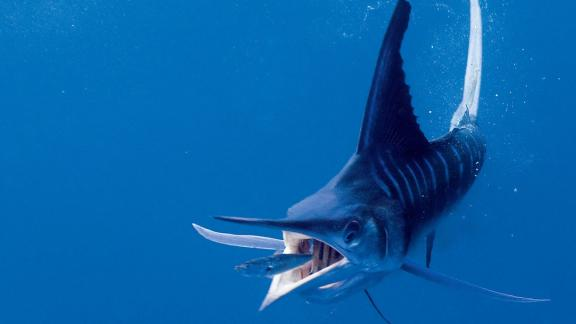fish: (224, 250, 323, 277)
swordfish: (183, 6, 490, 320)
